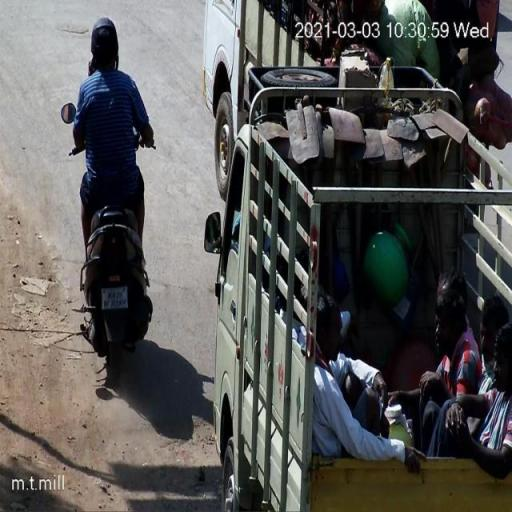using mobile: (86, 51, 96, 80)
